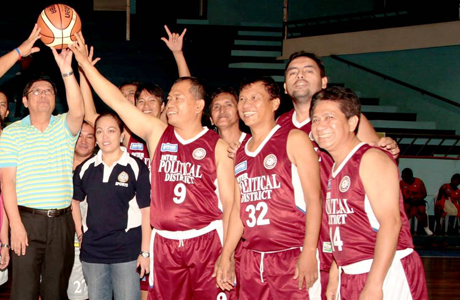ball: (35, 5, 82, 50)
player: (315, 88, 423, 300), (229, 76, 323, 300), (1, 48, 84, 296), (141, 77, 232, 300), (77, 114, 148, 300)
